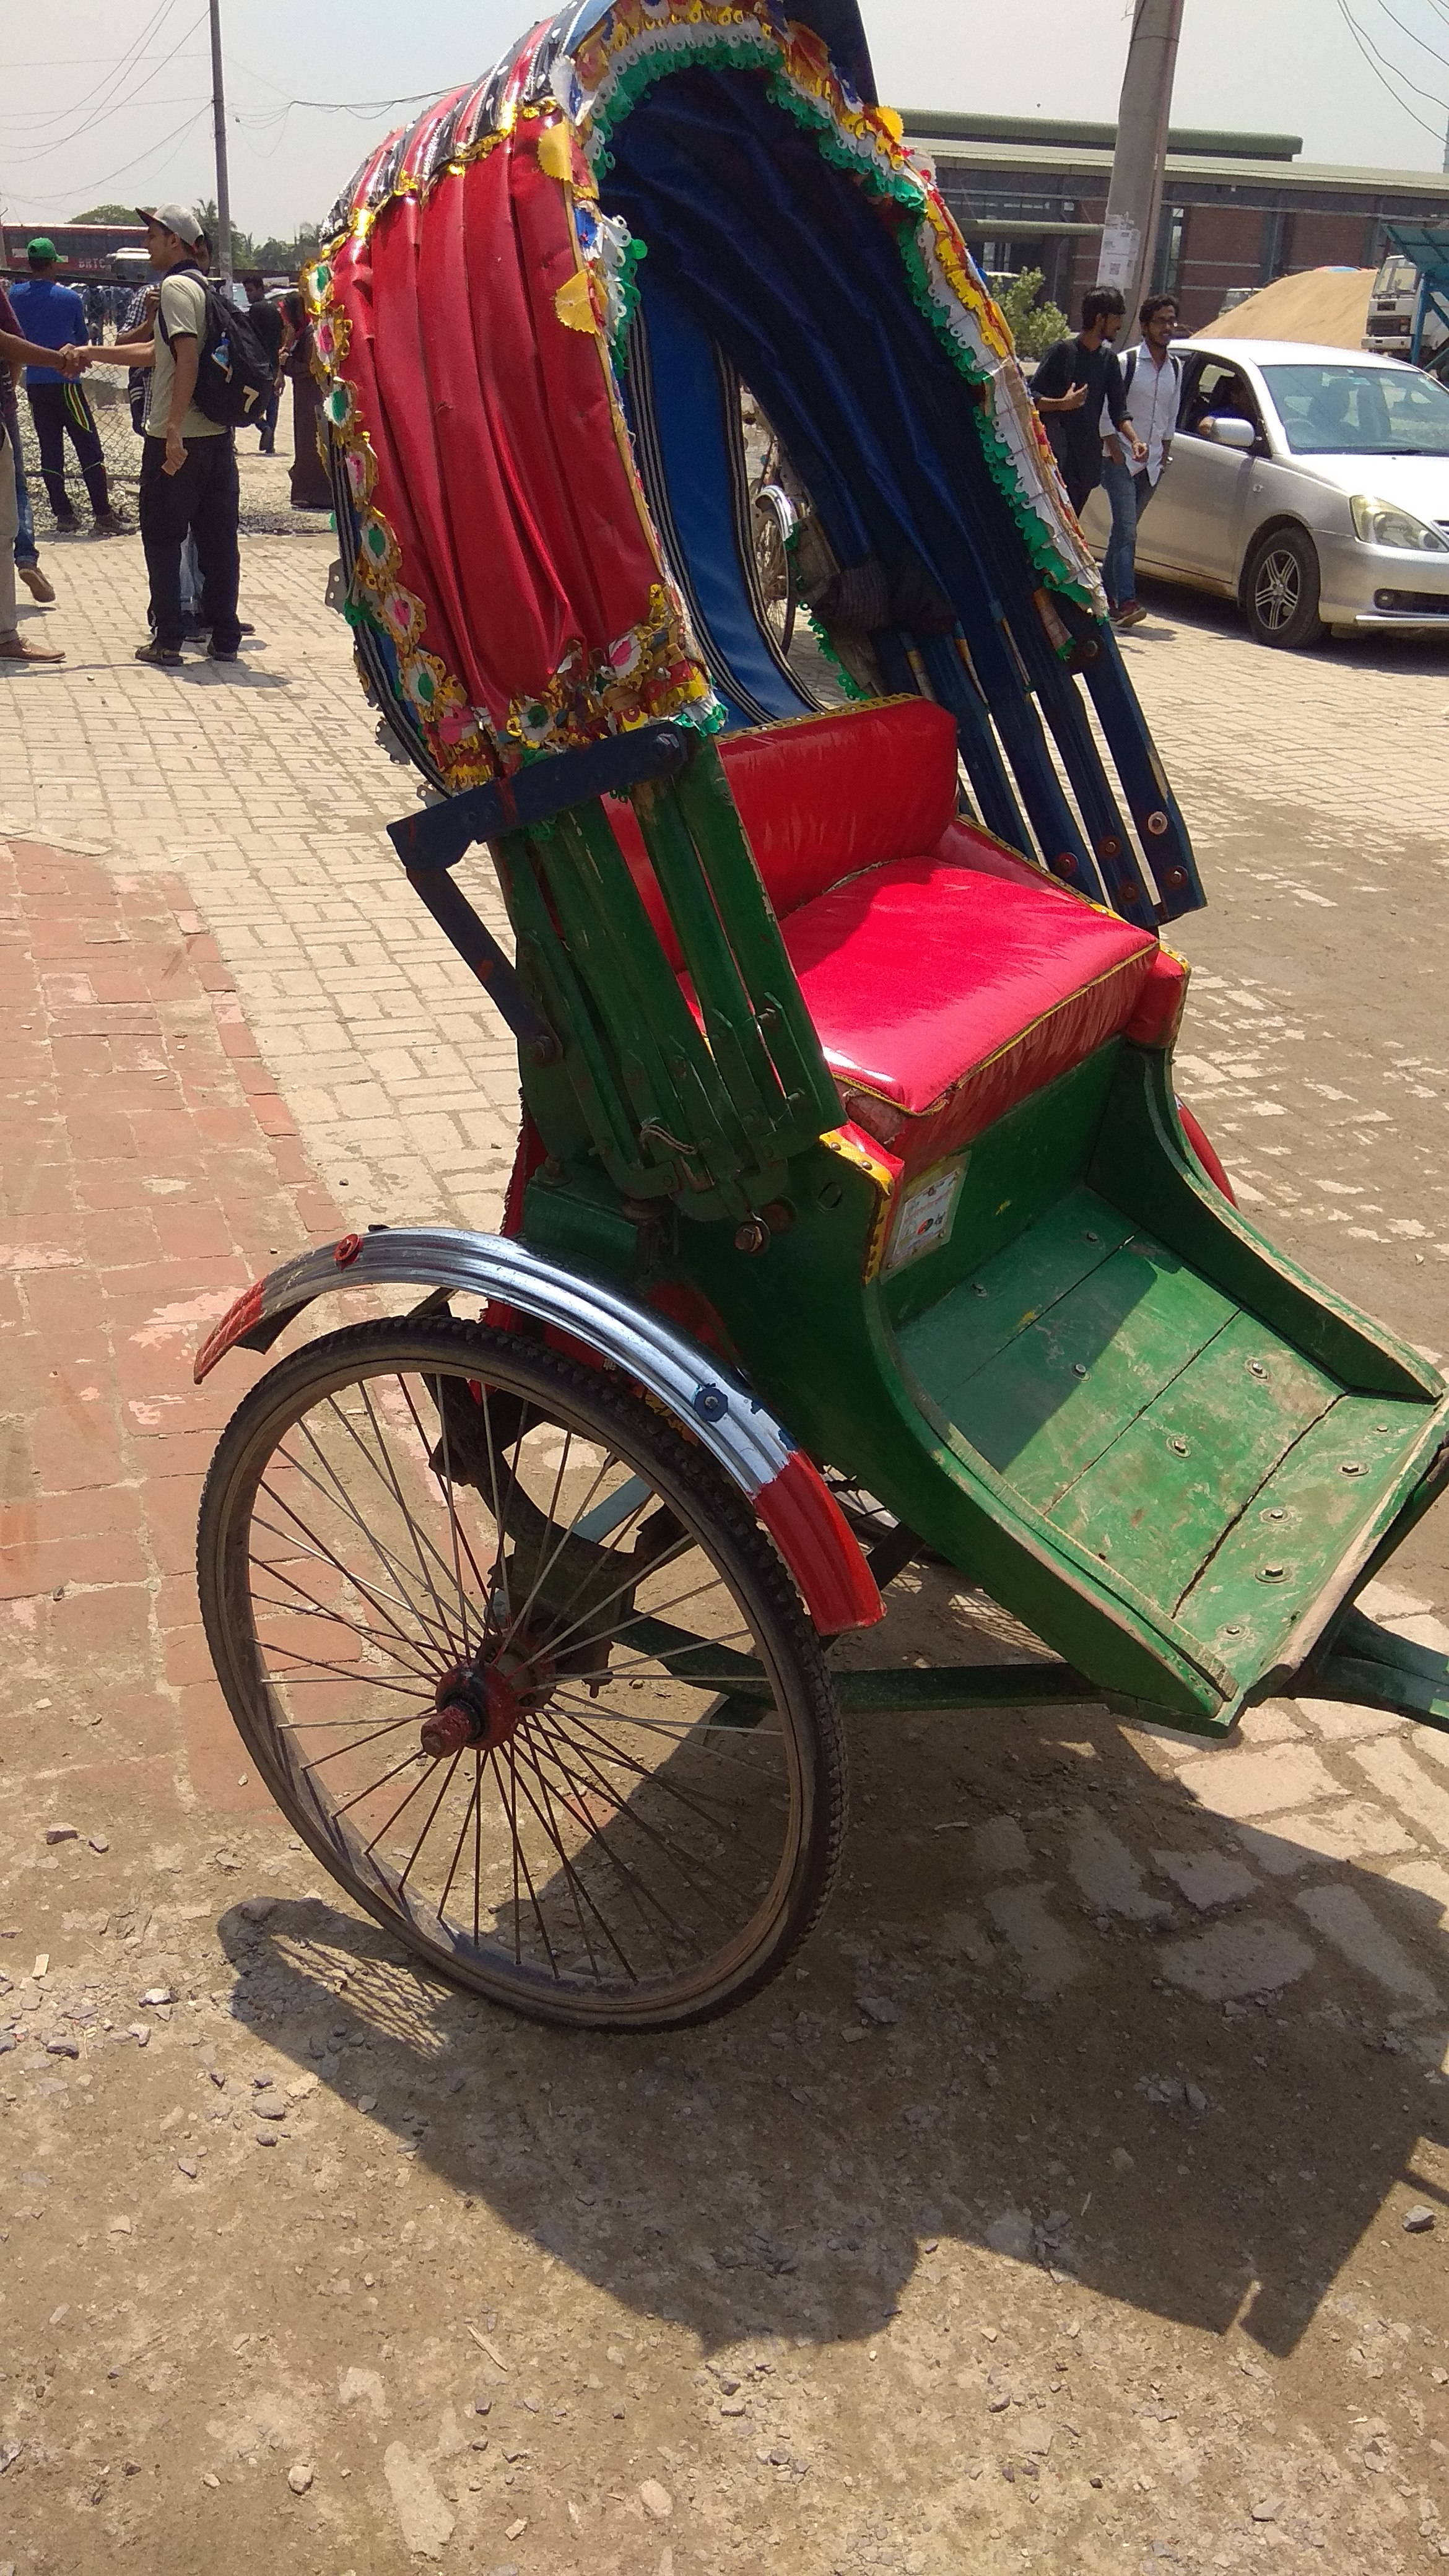Rickshaw: (163, 14, 1447, 1997)
